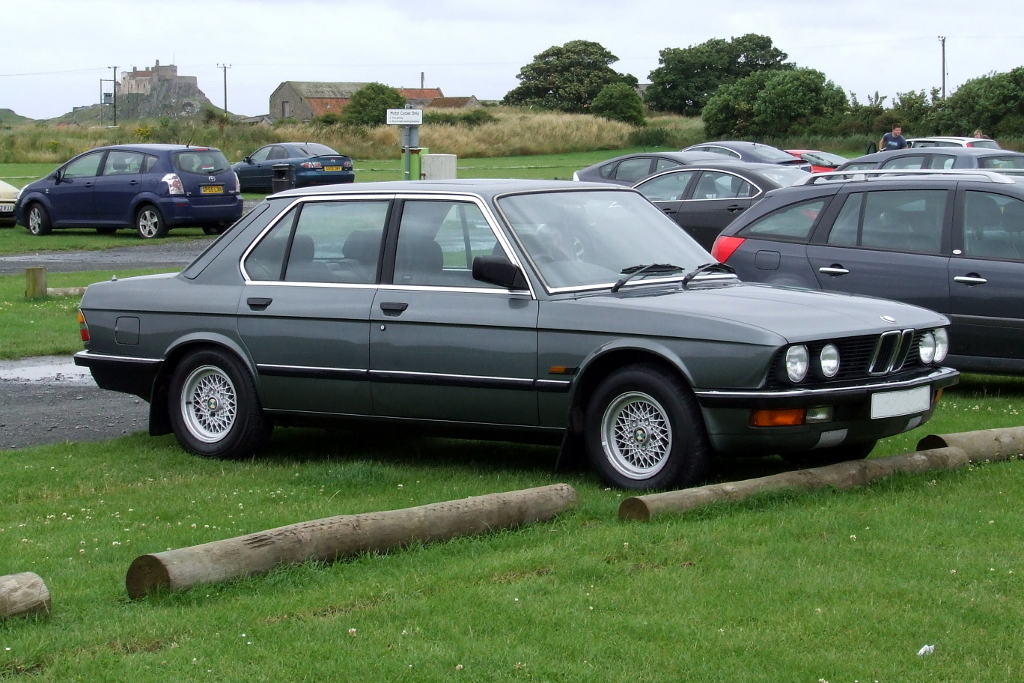Tree: (320, 32, 1023, 154)
